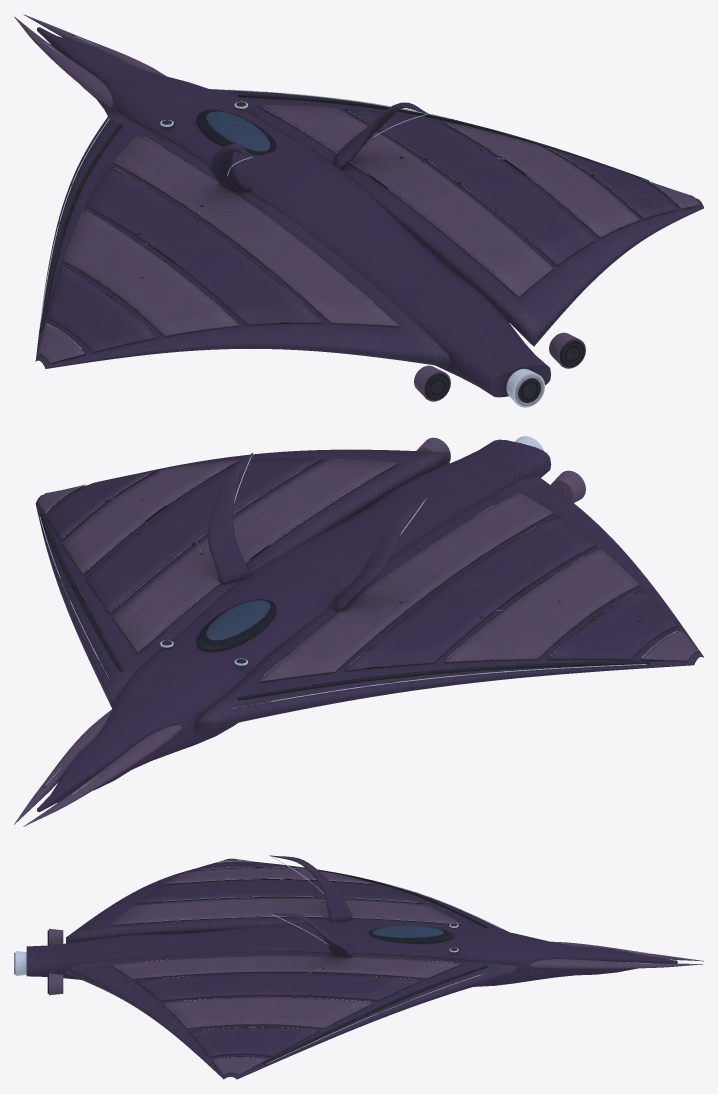
File: nightglass_hero.glb
3 views of the same model, one above another, from view 1: azimuth 30°, elevation 25°; view 2: azimuth 150°, elevation 25°; view 3: azimuth 270°, elevation 25° (orthographic). The views are drawn at different scales.
Visible parts, largest first — view 1: HullBaked; view 2: HullBaked; view 3: HullBaked.
Part boxes in pixels (bbox=[...]): HullBaked: bbox=[14, 14, 703, 407]; HullBaked: bbox=[14, 436, 703, 826]; HullBaked: bbox=[14, 855, 703, 1079].
Bounding box in the file's own units: 78 × 16.54 × 105.
Materials: 1 (1 with a texture image).
